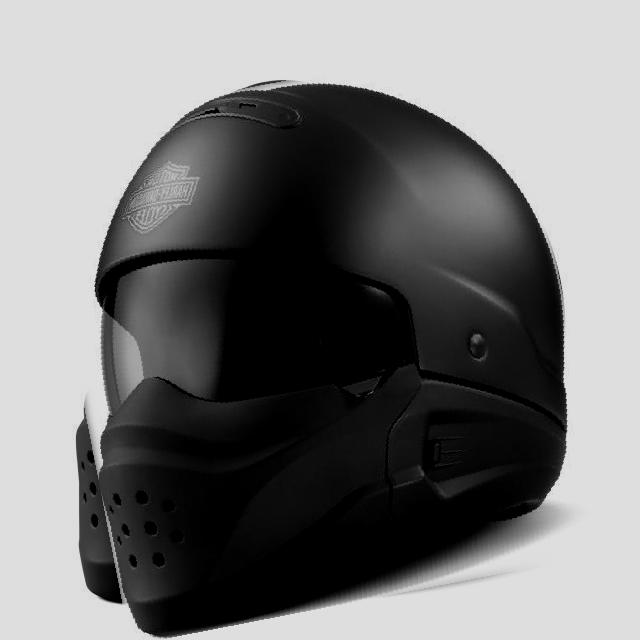helmet: (53, 57, 590, 624)
